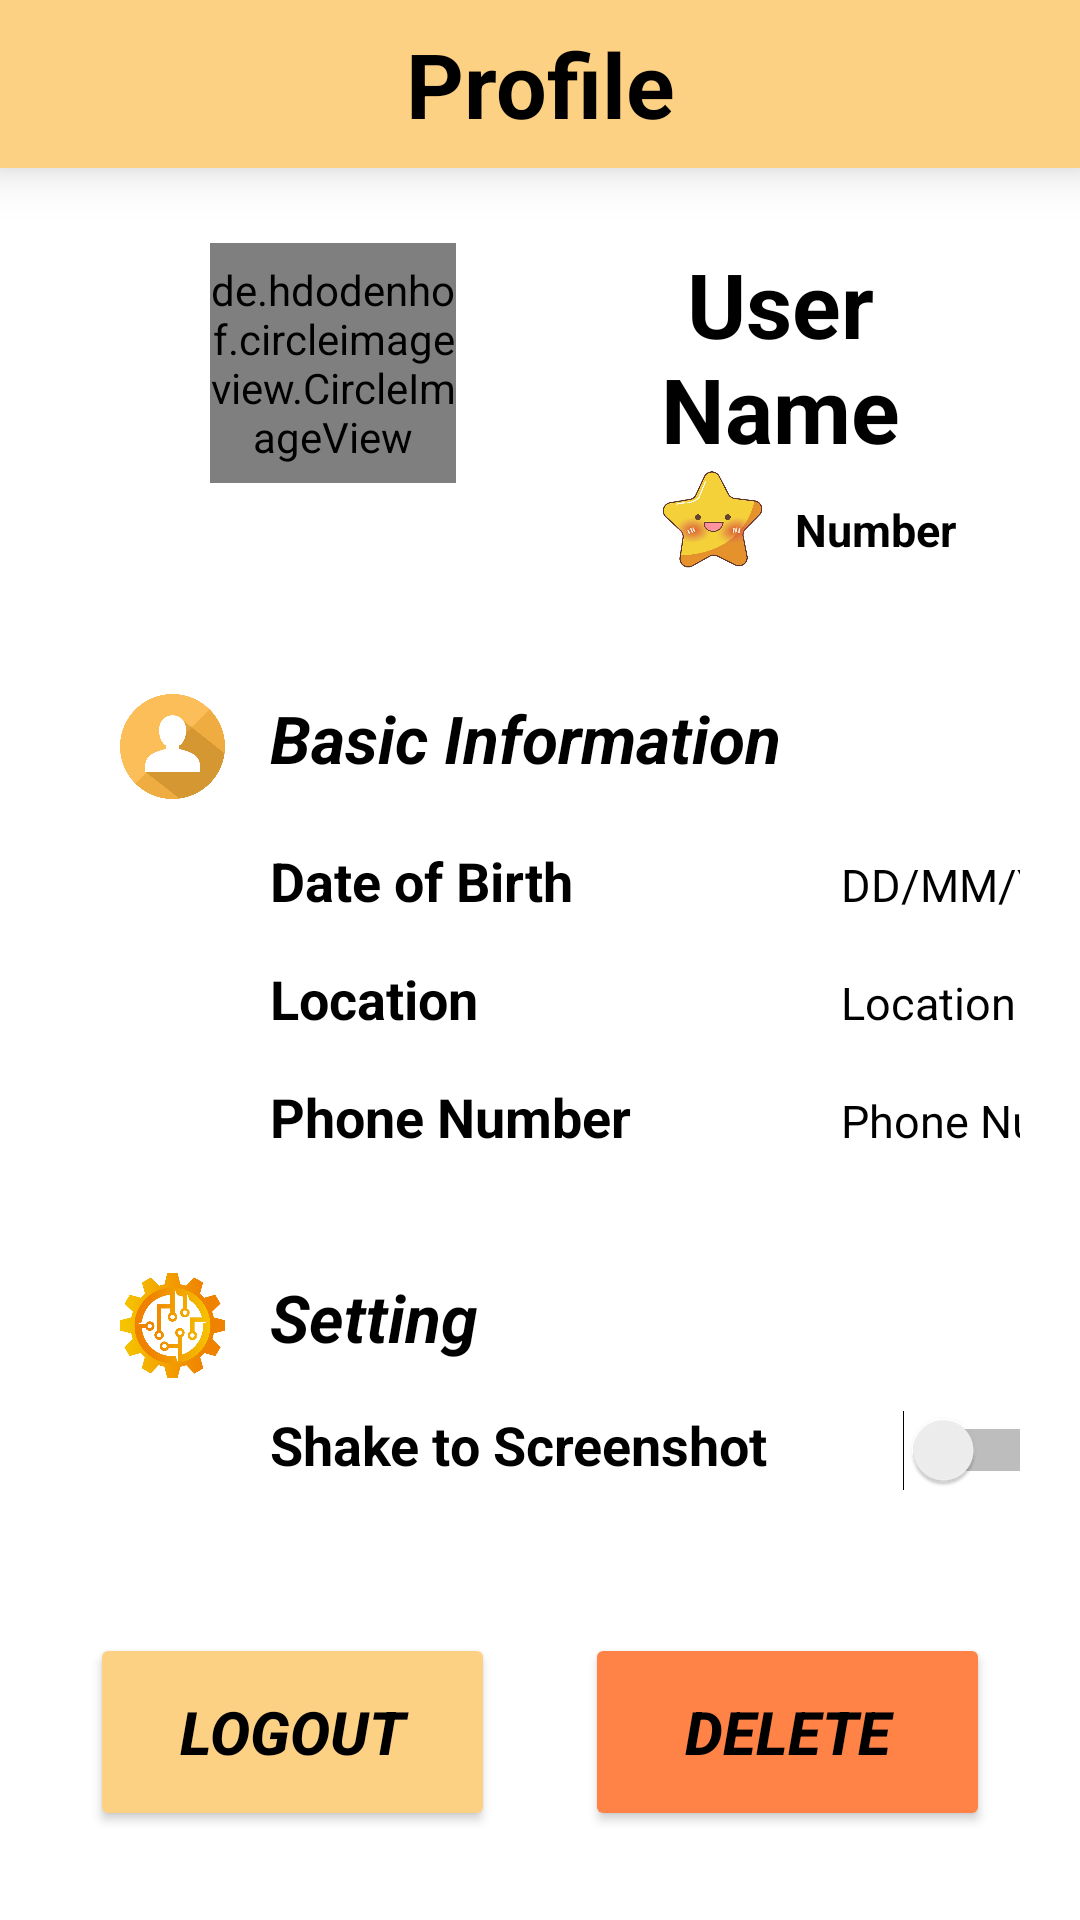

Named icons in this screenshot (1080w x 1920h) and their bounding boxes, box=[x1, y1, x2, y2]:
profile: box=[120, 694, 225, 799]
star: box=[663, 471, 762, 568]
